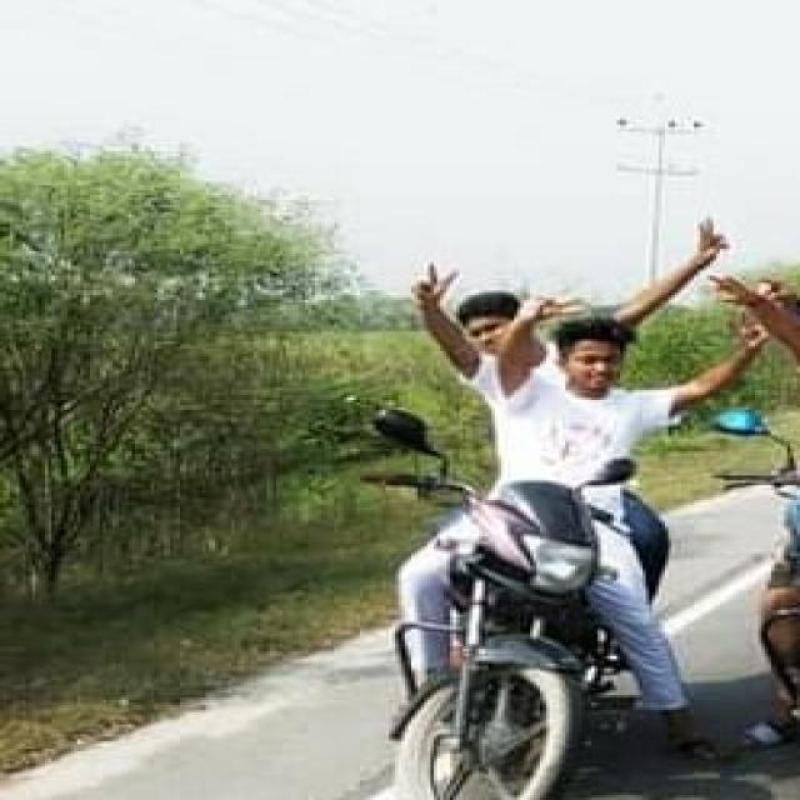nohelmet: (445, 267, 535, 369), (550, 314, 640, 400)
